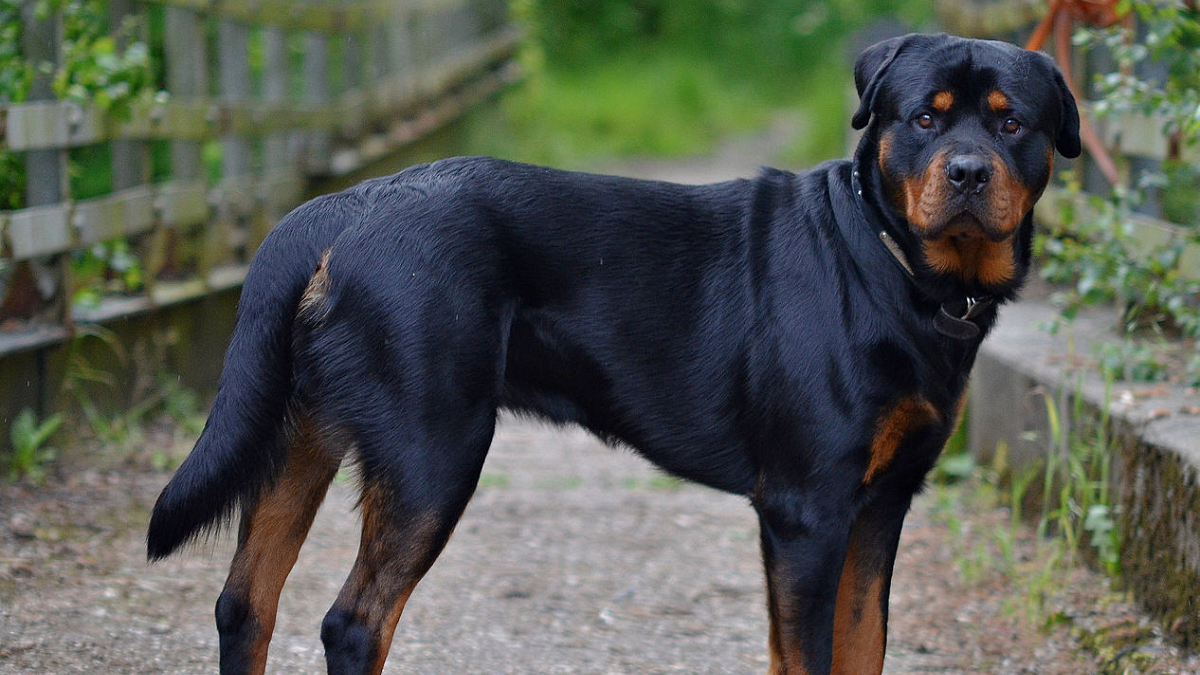dog: (786, 31, 1149, 296)
